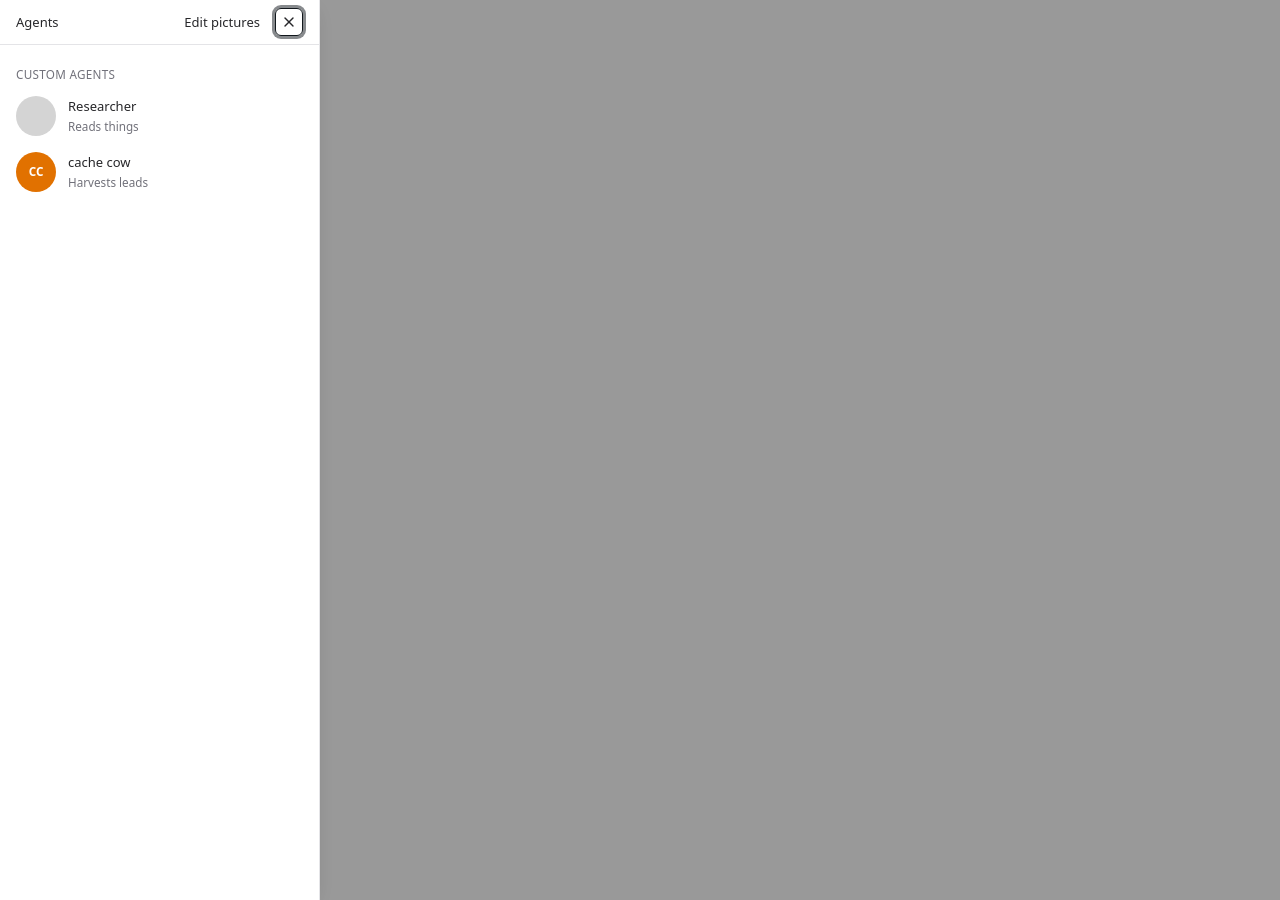
Test case: setting an agent's picture › offers removal only for an agent that actually has a stored picture
The width and height of the screenshot is (1280, 900).
Click the button with test id "agent-drawer-edit-avatars". click: (222, 22)
box: [173,8,271,36]
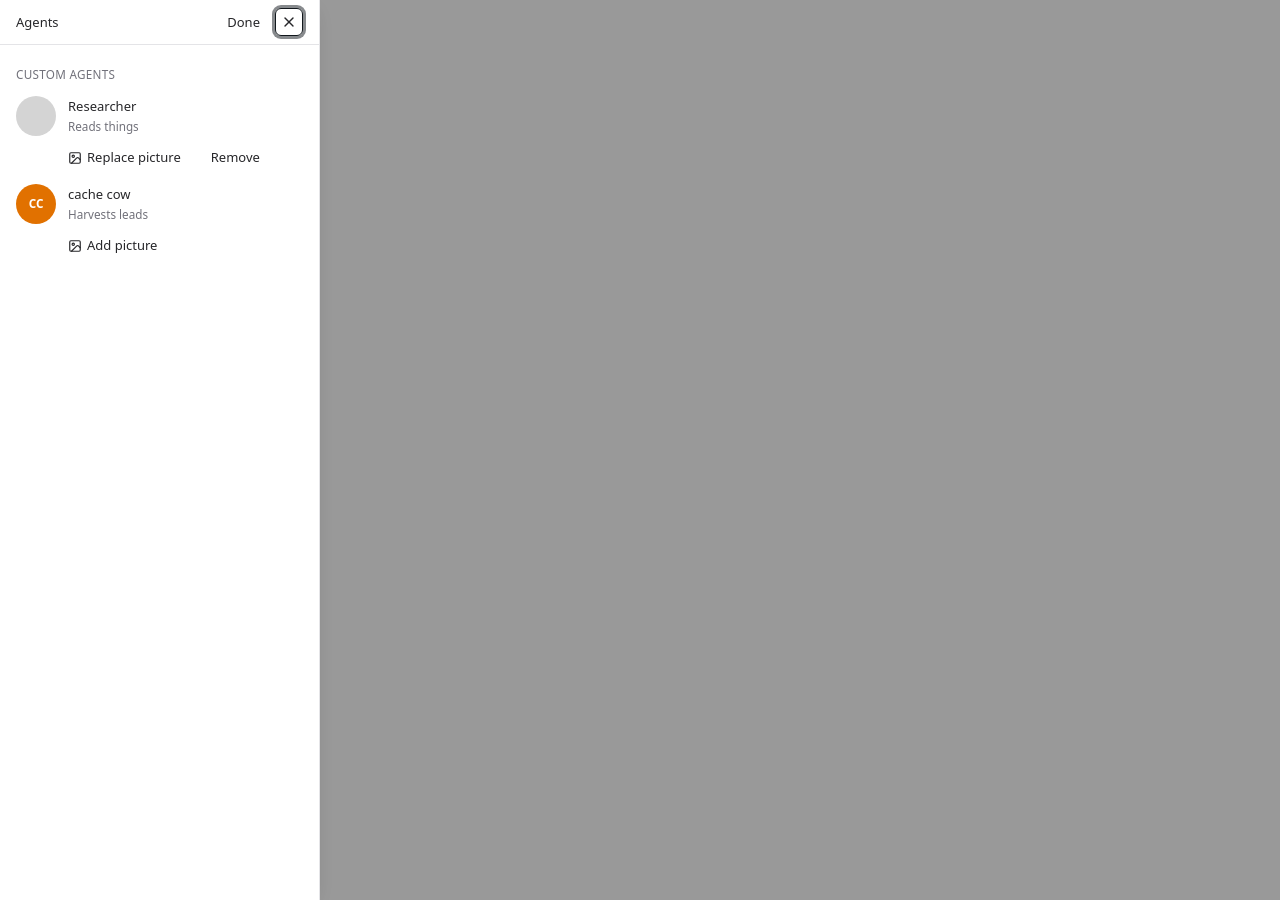
Click the button with aria-label "Remove researcher's picture". click: (235, 158)
box: [200,144,271,172]
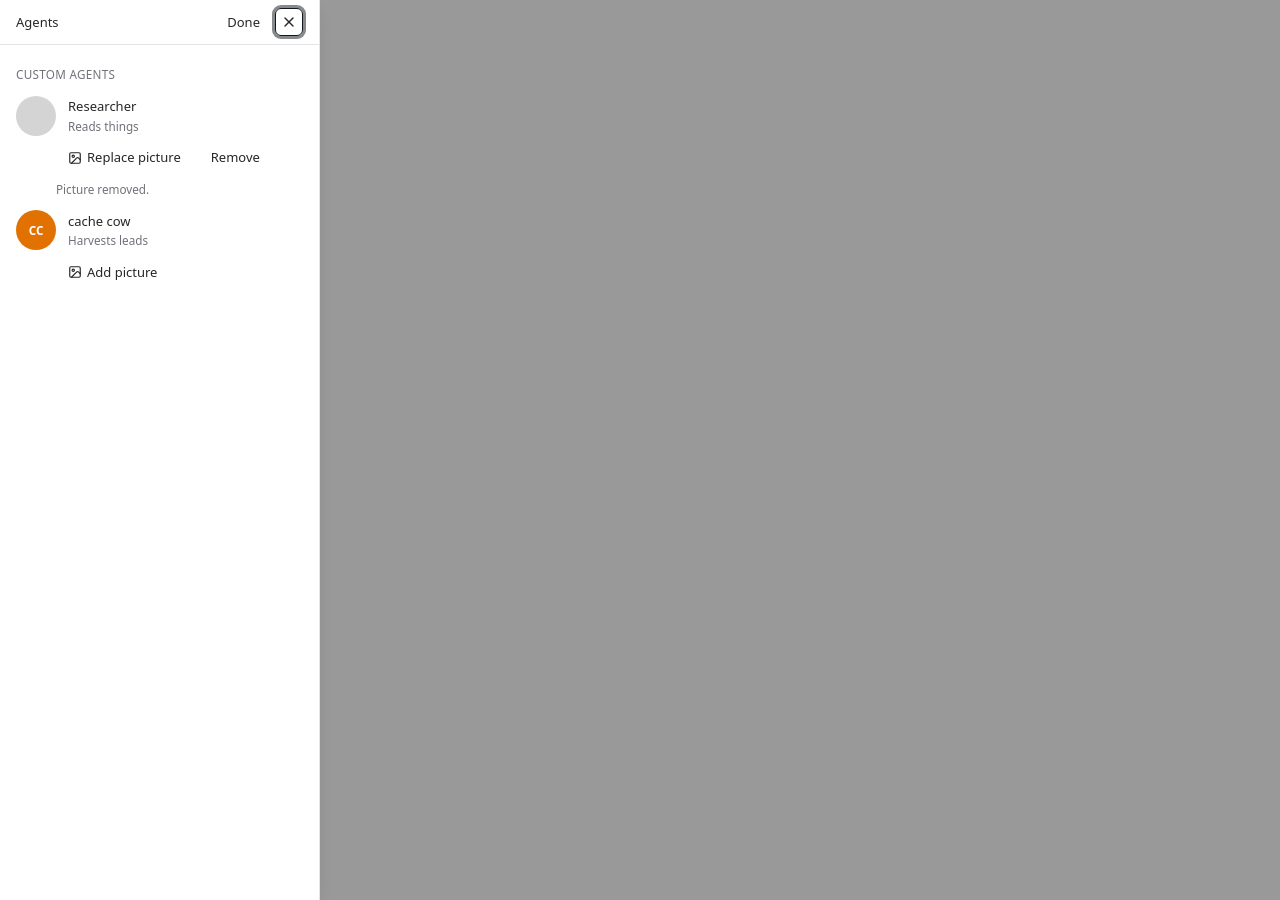
Now the text "Picture removed." is shown, box [56,180,149,198]
